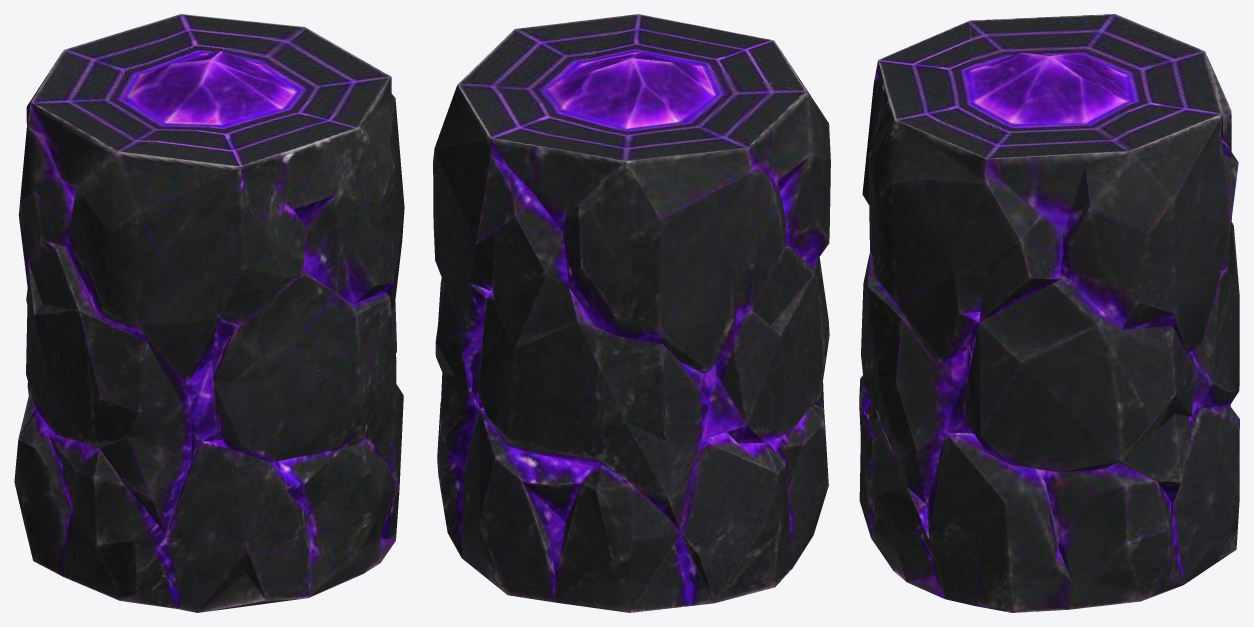
The model's file is wave_block.glb.
3 views of the same model, side by side, from view 1: azimuth 30°, elevation 25°; view 2: azimuth 150°, elevation 25°; view 3: azimuth 270°, elevation 25° (orthographic).
Parts seen in each view (by area): view 1: Mesh_0; view 2: Mesh_0; view 3: Mesh_0.
Part boxes in pixels (bbox=[...]): Mesh_0: bbox=[14, 14, 404, 612]; Mesh_0: bbox=[433, 14, 830, 612]; Mesh_0: bbox=[859, 14, 1239, 612].
Bounding box in the file's own units: 1.42 × 1.9 × 1.37.
Materials: 1 (1 with a texture image).
